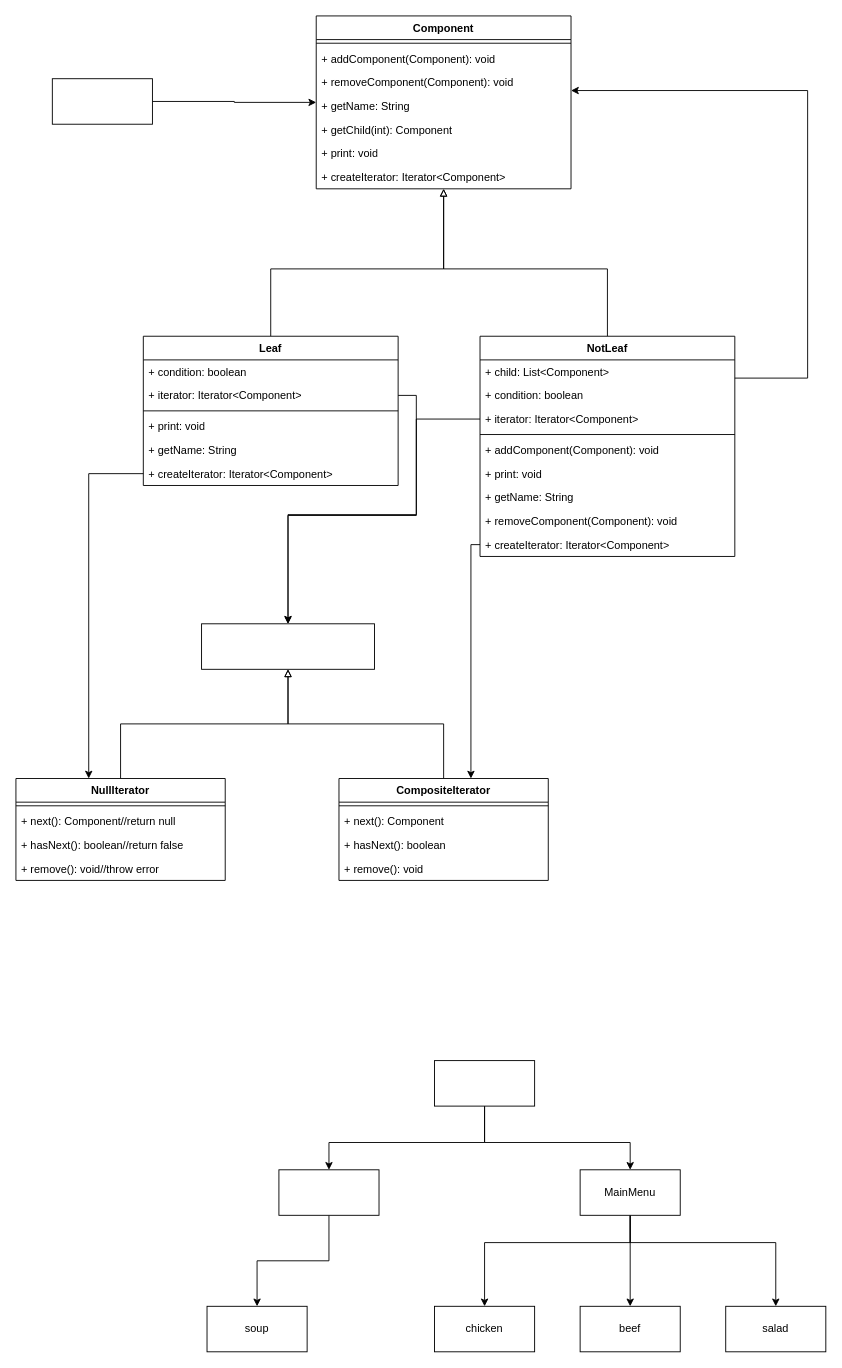
Image size: 842x1368. Some labels were removed from this diagram. The shapes that lost their labels are listed below. From the top down, each one's centre as x and y in pixels, then its label:
point (101, 101): client
point (287, 646): «interface» Iterator<Component>
point (484, 1083): Menu
point (328, 1192): baseMenu
